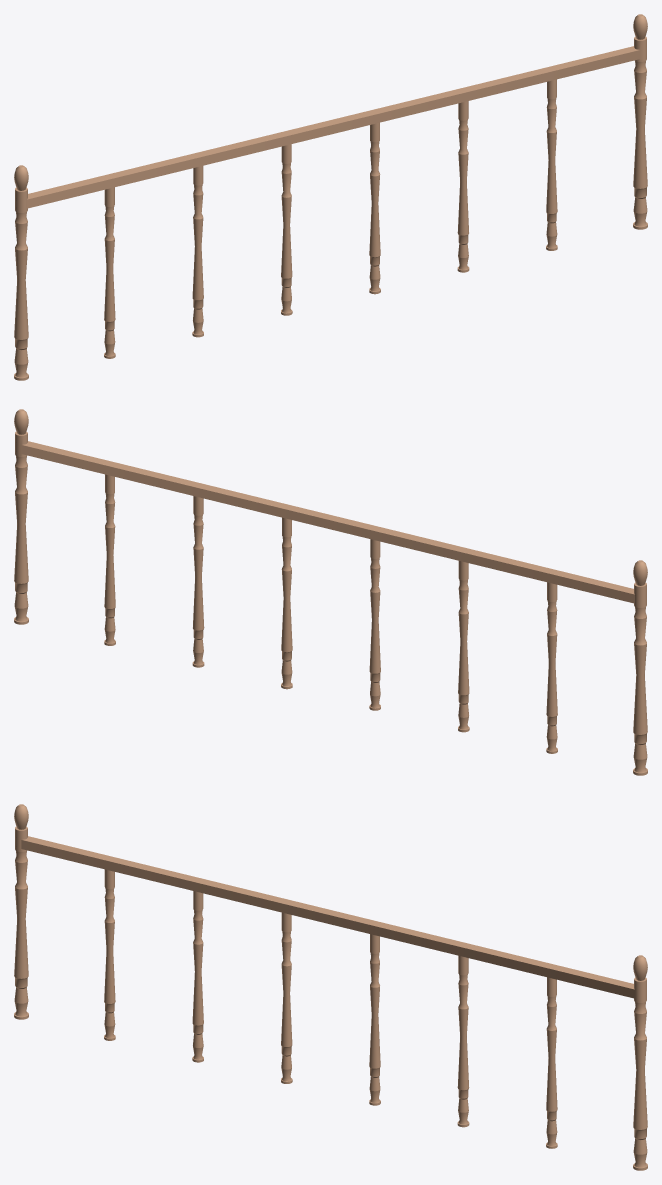
The model's file is Muretto_LV_2.fbx.
3 views of the same model, one above another, from view 1: azimuth 30°, elevation 25°; view 2: azimuth 150°, elevation 25°; view 3: azimuth 330°, elevation 25° (orthographic).
Parts seen in each view (by area): view 1: Cylinder.060; view 2: Cylinder.060; view 3: Cylinder.060.
Part boxes in pixels (x1,y1,x2,y2): Cylinder.060: [14, 14, 647, 380]; Cylinder.060: [14, 409, 647, 775]; Cylinder.060: [14, 804, 647, 1170].
Bounding box in the file's own units: 286 × 91.52 × 5.85.
